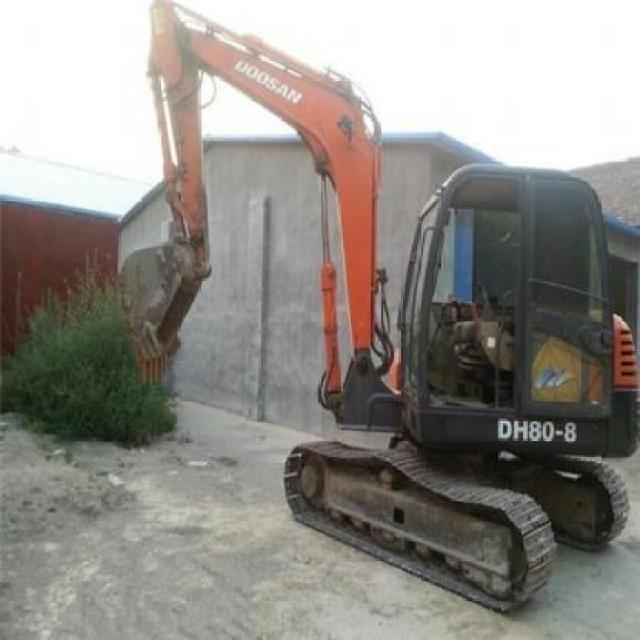Excavator: (108, 0, 637, 626)
